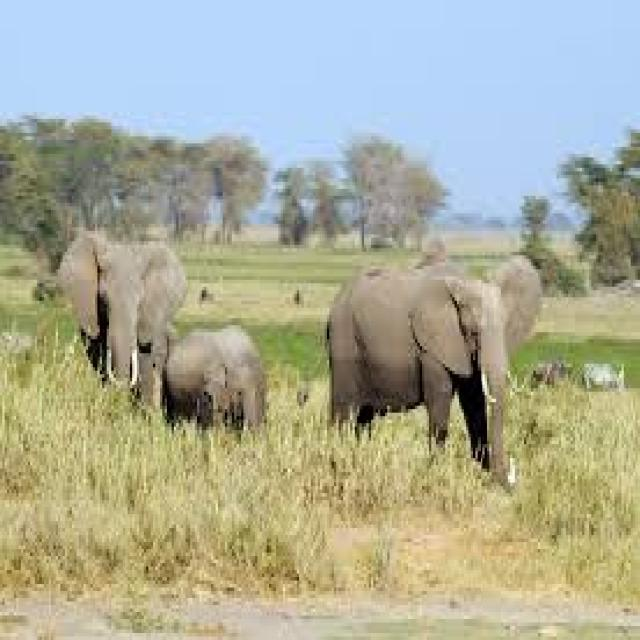Elephant: (324, 252, 542, 489), (56, 224, 186, 413), (160, 322, 264, 434)
